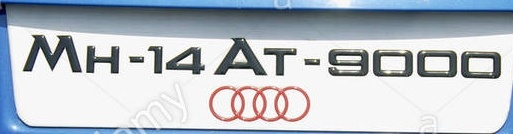character: (20, 32, 82, 77), (213, 35, 267, 78), (459, 49, 503, 81), (371, 47, 414, 79), (326, 46, 370, 77), (416, 47, 458, 79), (164, 44, 204, 77), (84, 41, 121, 76), (262, 42, 297, 76), (147, 42, 165, 77)
